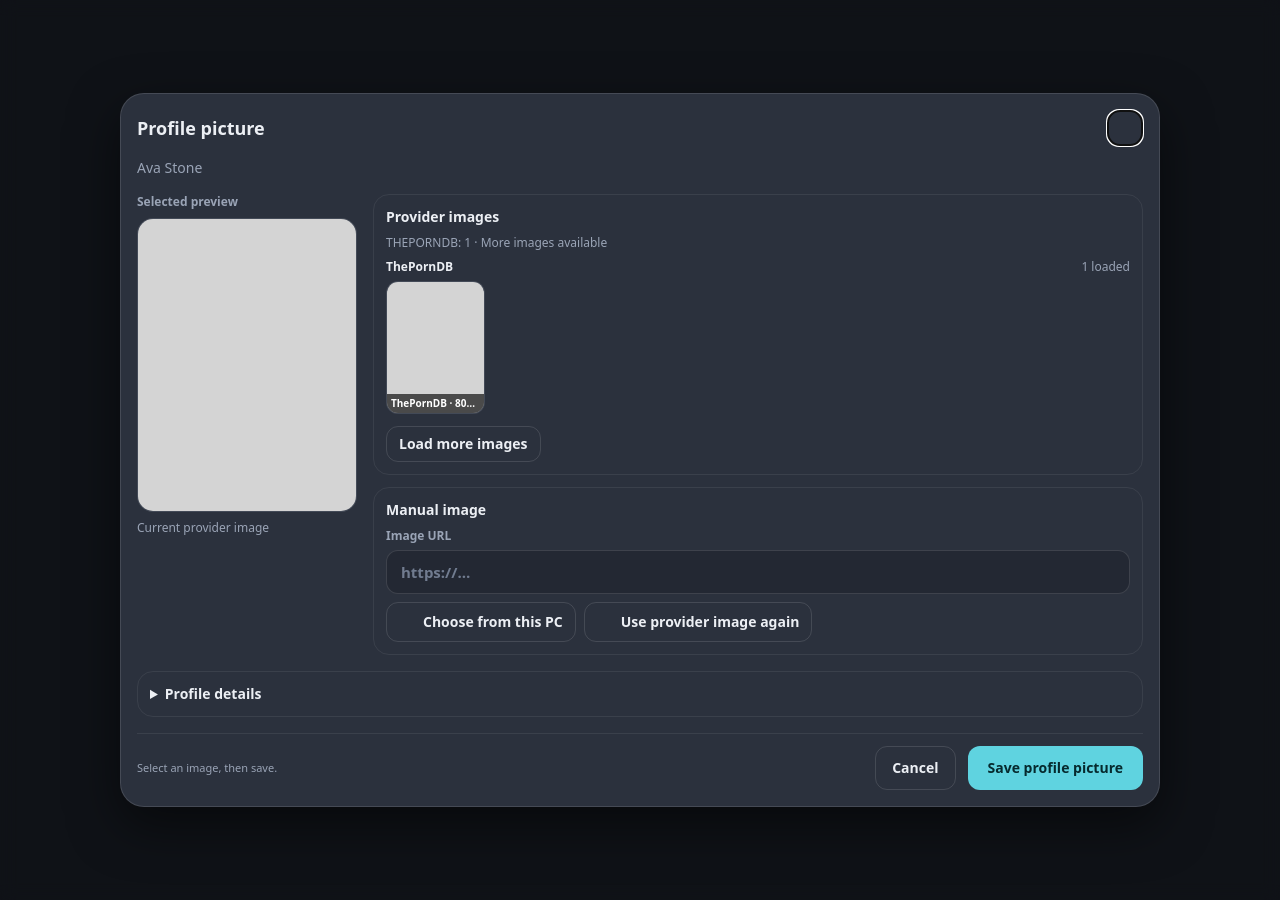
Scenario: Edit performer › loads more images when the server has more
Expected: the text "Ava Stone" is shown, [137,158,202,177]
Click the button "Load more images".
click(463, 444)  # box [386,426,540,462]
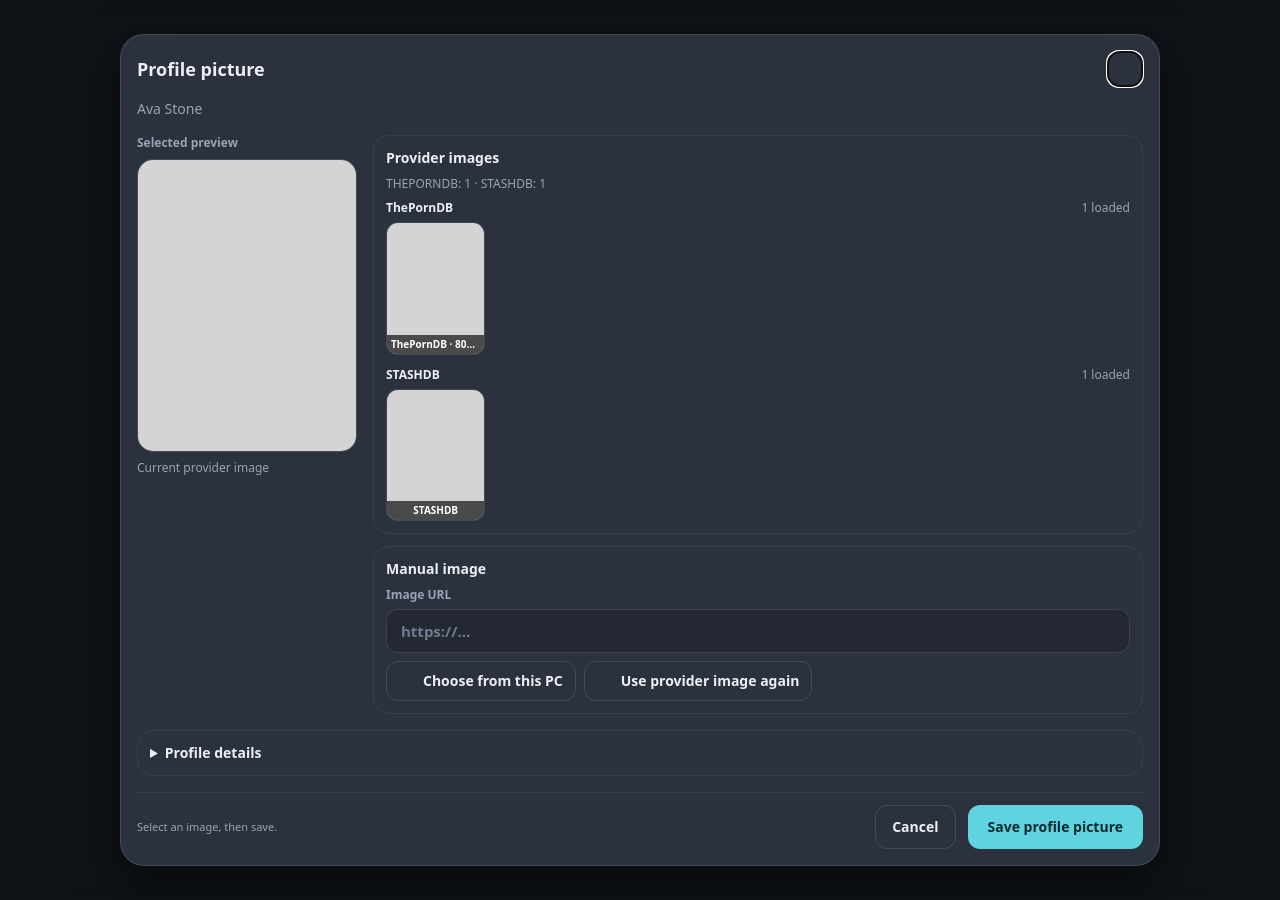
Now the button "Load more images" is gone
